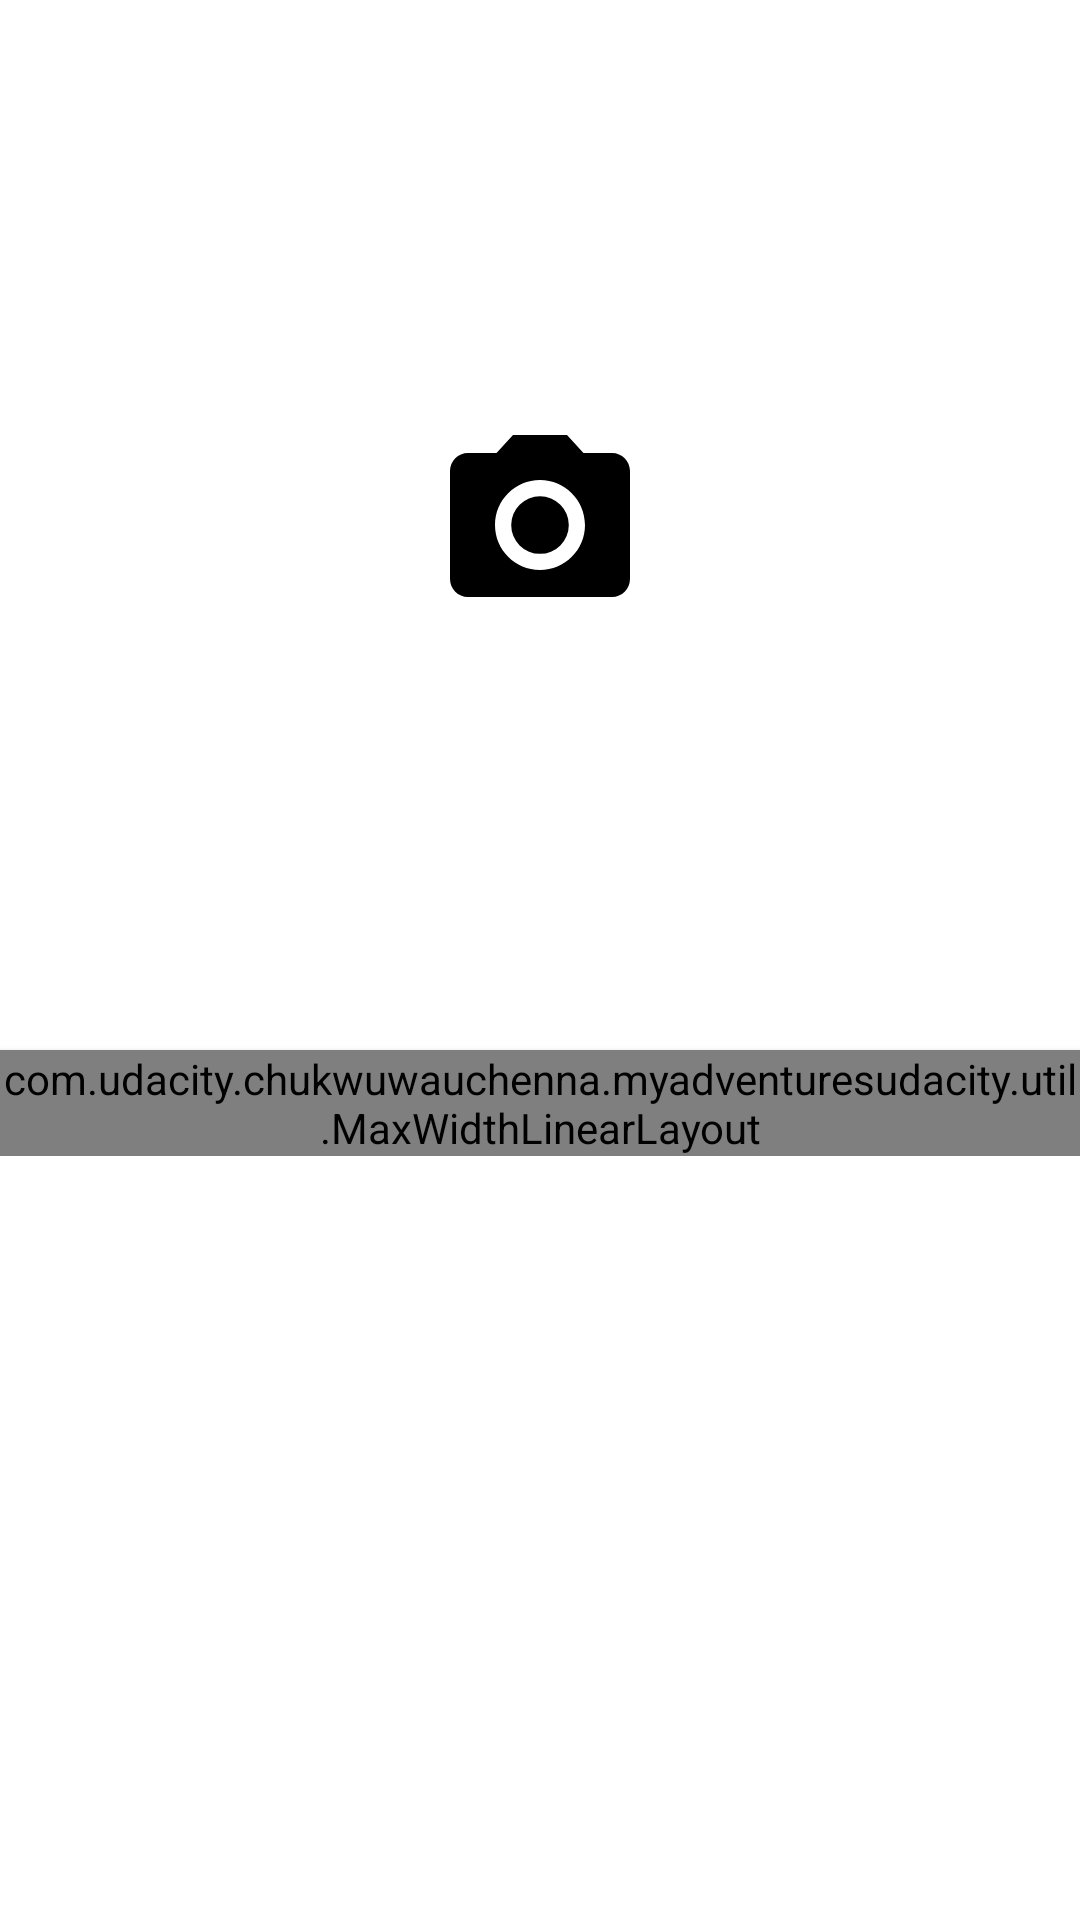

Named icons in this screenshot (1080×1920) and their bounding boxes, (x1, y1, x2, y2):
Click to add an image of a place: (450, 435, 630, 597)
